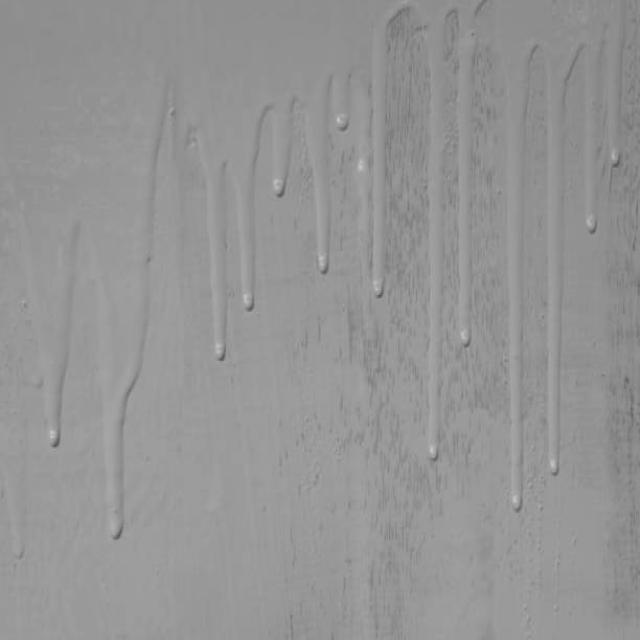paint drips: (408, 0, 640, 528), (170, 0, 403, 376), (0, 53, 166, 564)
